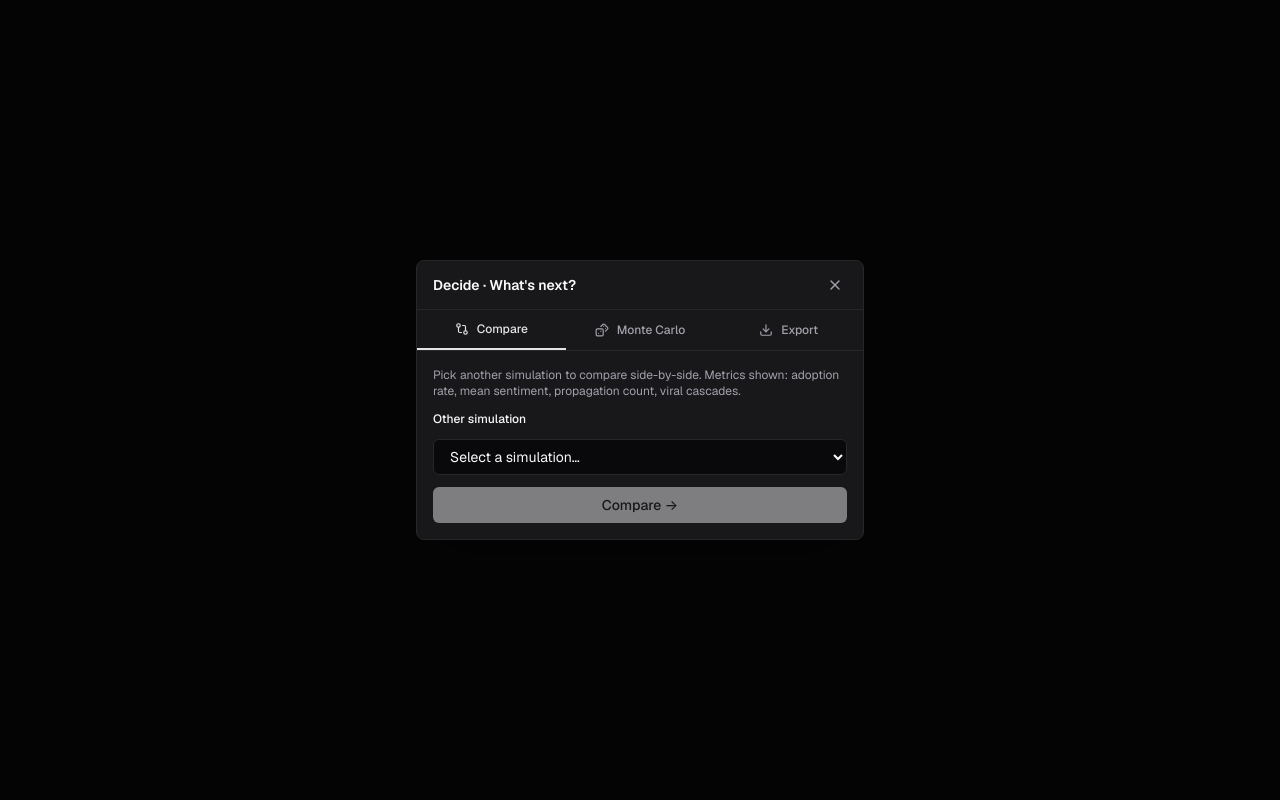
it: <DecidePanel /> › renders viral probability + expected reach after a successful sweep
Click the button with test id "decide-tab-monte_carlo": (640, 330) [566, 310, 714, 350]
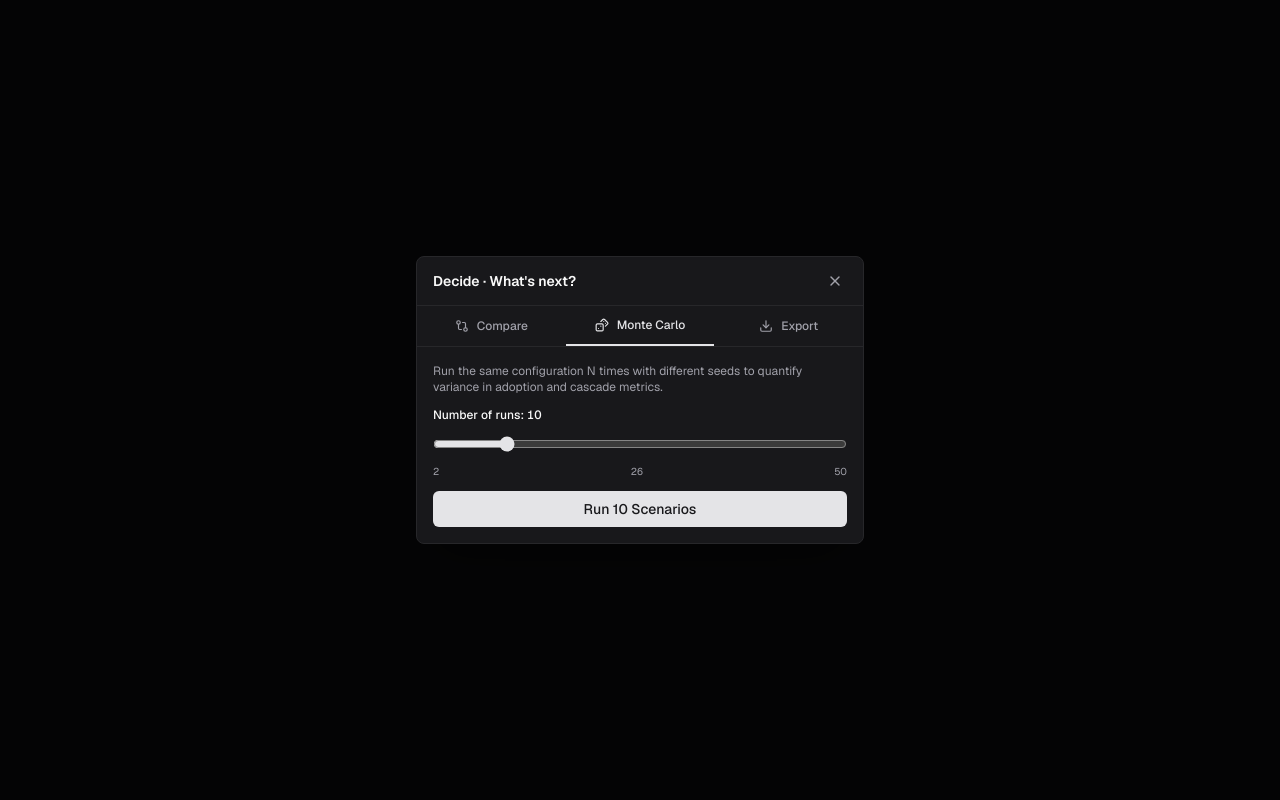
Click the button with test id "decide-mc-run": (640, 509) [433, 491, 847, 527]
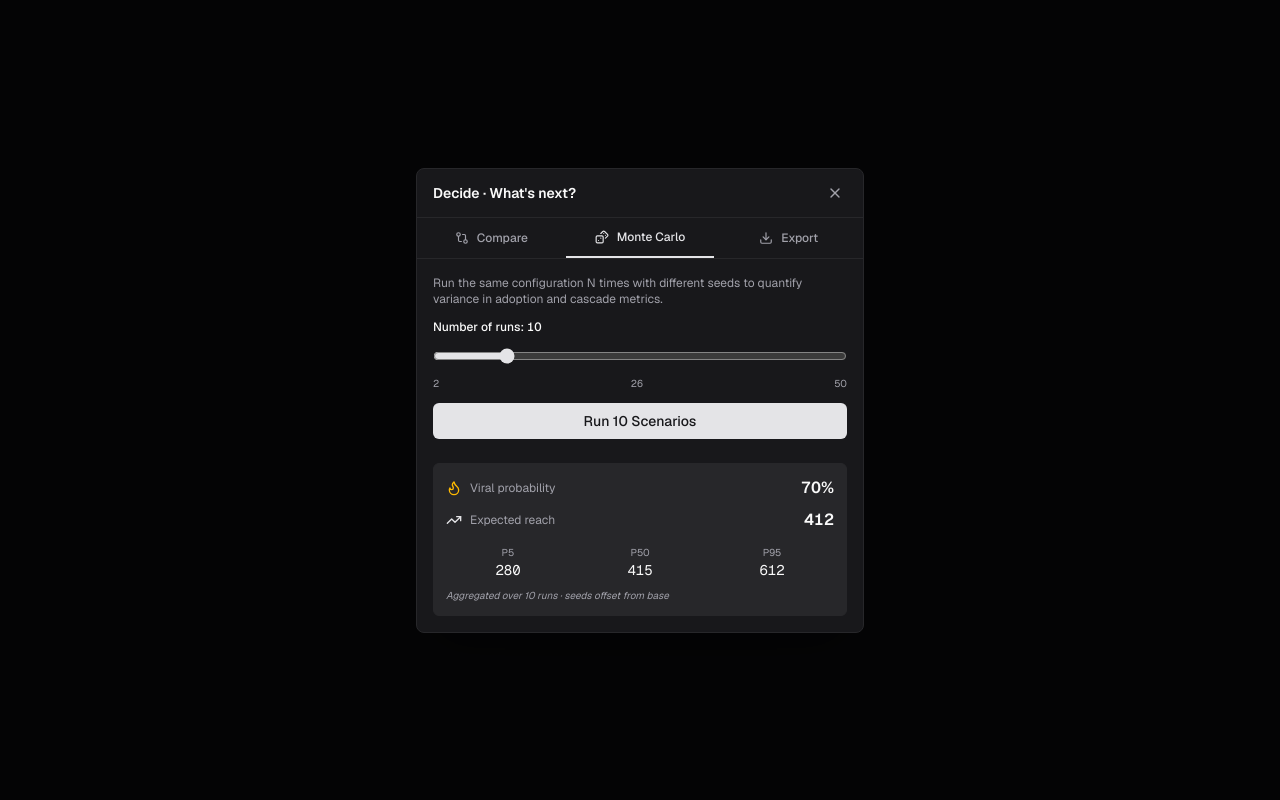
Check: the element with test id "decide-mc-result" is shown, box [433, 462, 847, 616]
Check: the text with test id "decide-mc-viral-prob" reads "70%", box [801, 476, 834, 500]
Check: the text with test id "decide-mc-expected" reads "412", box [804, 508, 834, 530]
